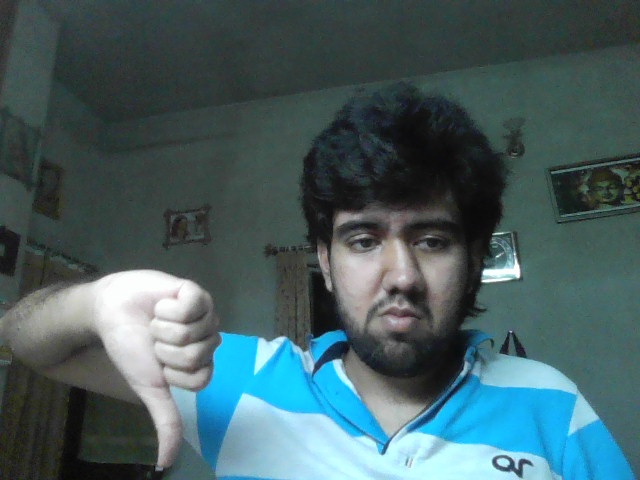NotOk: (100, 269, 220, 467)
